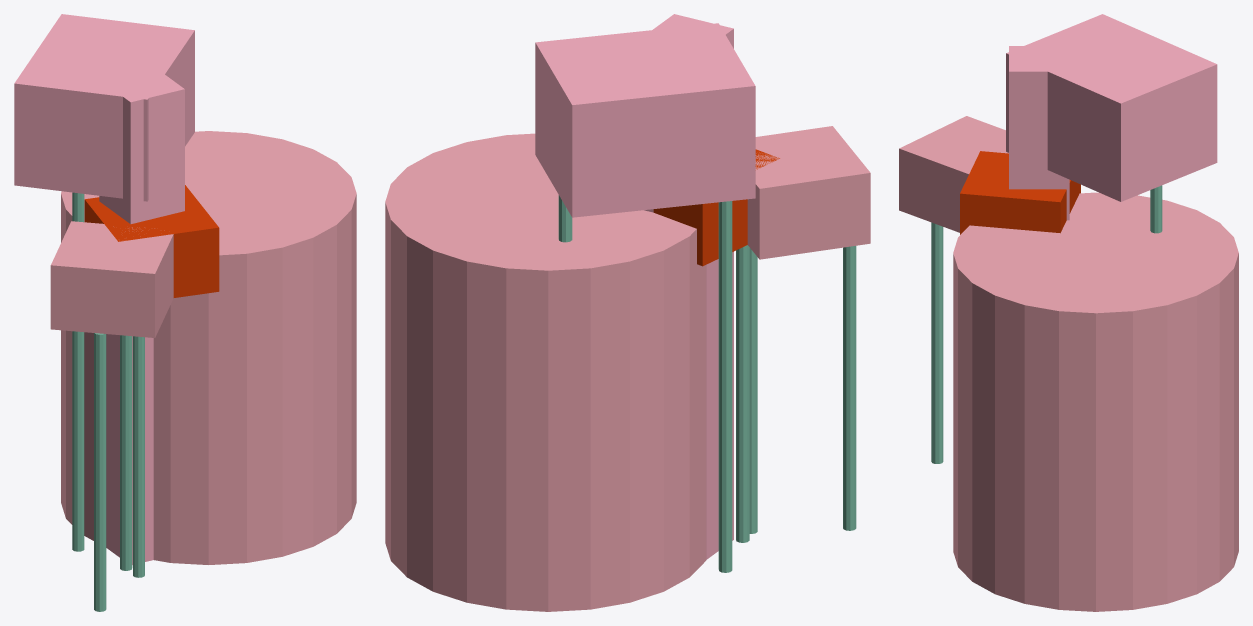
The model's file is folie_tag_039.glb.
3 renders of one model, left to right at view 1: azimuth 30°, elevation 25°; view 2: azimuth 150°, elevation 25°; view 3: azimuth 270°, elevation 25°, orthographic. The views are drawn at different scales.
Visible parts, largest first — view 1: folie_tag_039_00_drum, folie_tag_039_01_block, folie_tag_039_core, folie_tag_039_line, folie_tag_039_03_block, folie_tag_039_02_block; view 2: folie_tag_039_00_drum, folie_tag_039_01_block, folie_tag_039_line, folie_tag_039_03_block, folie_tag_039_core, folie_tag_039_02_block; view 3: folie_tag_039_00_drum, folie_tag_039_01_block, folie_tag_039_03_block, folie_tag_039_02_block, folie_tag_039_core, folie_tag_039_line.
Part boxes in pixels (x1=…): folie_tag_039_00_drum: x1=61, y1=131, x2=356, y2=564; folie_tag_039_01_block: x1=14, y1=14, x2=194, y2=201; folie_tag_039_core: x1=99, y1=66, x2=184, y2=564; folie_tag_039_line: x1=72, y1=192, x2=144, y2=611; folie_tag_039_03_block: x1=50, y1=221, x2=173, y2=337; folie_tag_039_02_block: x1=84, y1=185, x2=219, y2=297; folie_tag_039_00_drum: x1=385, y1=133, x2=706, y2=611; folie_tag_039_01_block: x1=535, y1=23, x2=755, y2=217; folie_tag_039_line: x1=558, y1=195, x2=856, y2=572; folie_tag_039_03_block: x1=747, y1=126, x2=870, y2=259; folie_tag_039_core: x1=641, y1=14, x2=733, y2=559; folie_tag_039_02_block: x1=653, y1=149, x2=779, y2=266; folie_tag_039_00_drum: x1=953, y1=192, x2=1238, y2=611; folie_tag_039_01_block: x1=1006, y1=14, x2=1217, y2=201; folie_tag_039_03_block: x1=899, y1=116, x2=1008, y2=232; folie_tag_039_02_block: x1=960, y1=151, x2=1080, y2=234; folie_tag_039_core: x1=1009, y1=46, x2=1069, y2=220; folie_tag_039_line: x1=931, y1=185, x2=1162, y2=463.
Bounding box in the file's own units: 7.17 × 8.99 × 6.19.
